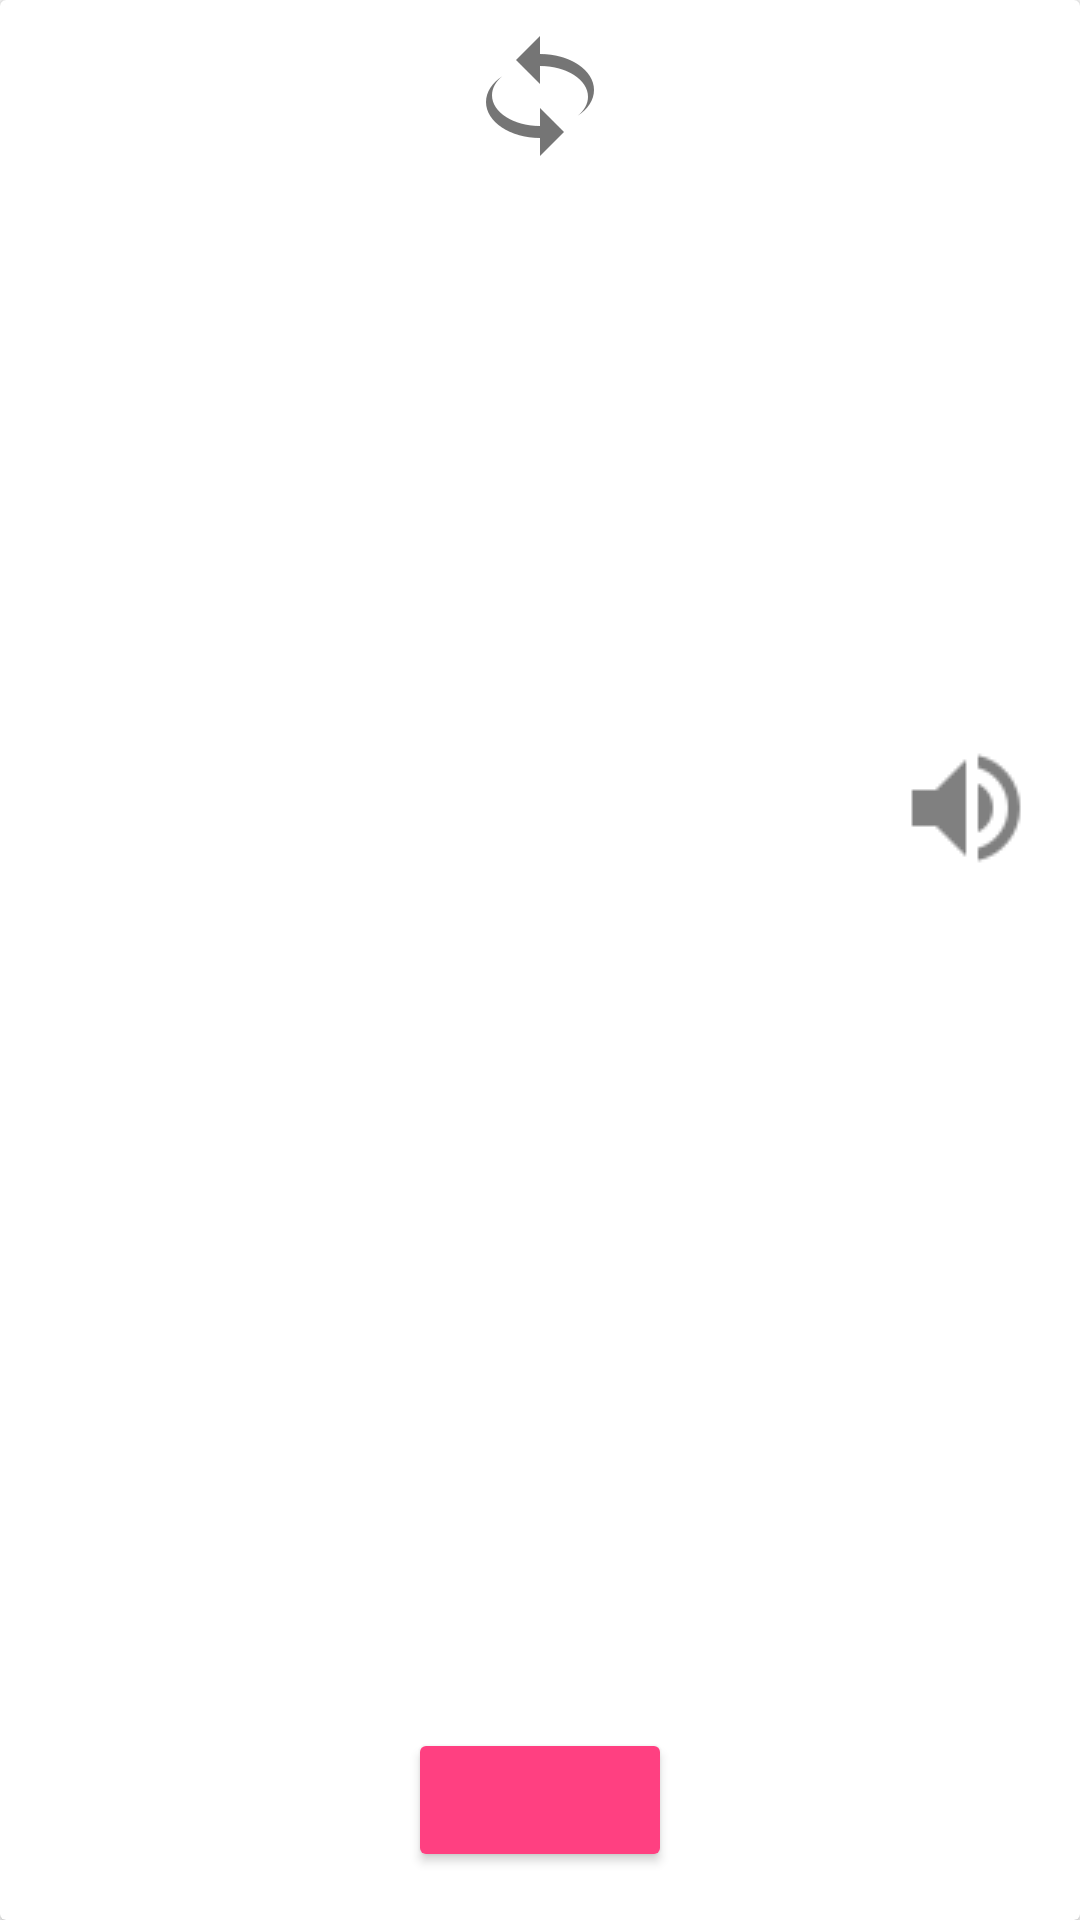

Where to tap for icons on this 1080×1920 app screen, as [x,y]:
rotate 3d: [540,96]
volume high: [966,808]
